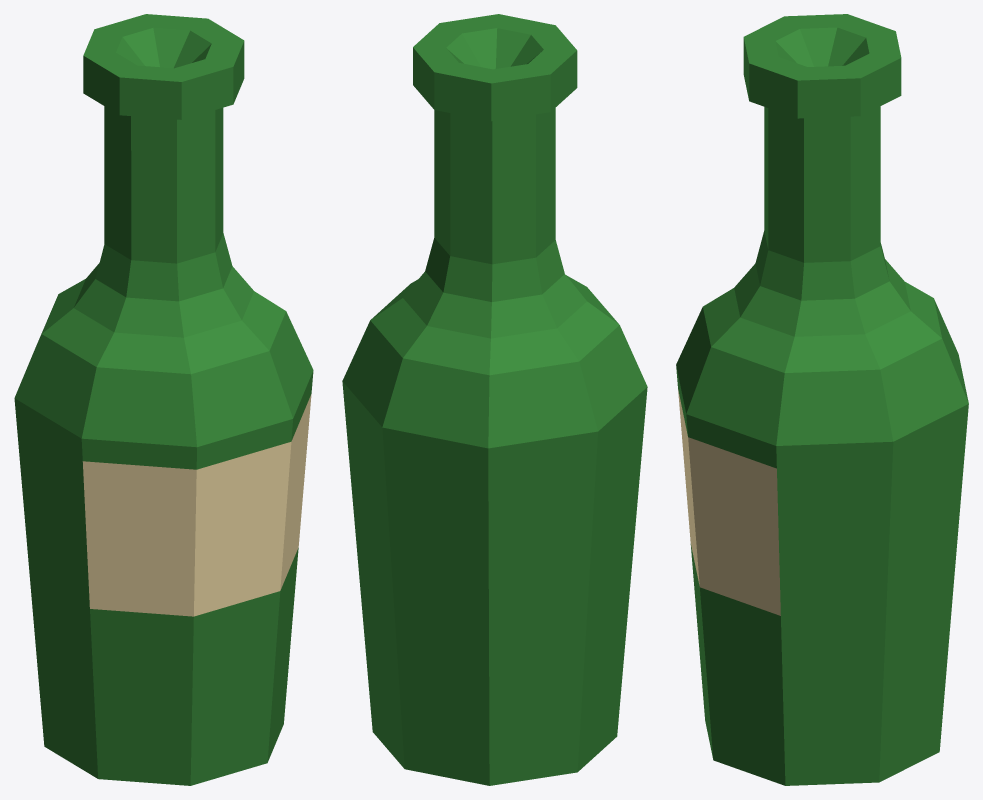
Rendered from Bottle.fbx.
3 renders of one model, left to right at view 1: azimuth 30°, elevation 25°; view 2: azimuth 150°, elevation 25°; view 3: azimuth 270°, elevation 25°, orthographic.
Visible parts, largest first — view 1: Bottle; view 2: Bottle; view 3: Bottle.
Boxes of the visible parts, x1,y1,x2,y2 form: Bottle: (14,14,313,785); Bottle: (342,14,647,785); Bottle: (676,14,968,785).
Bounding box in the file's own units: 28.75 × 74.66 × 28.75.
